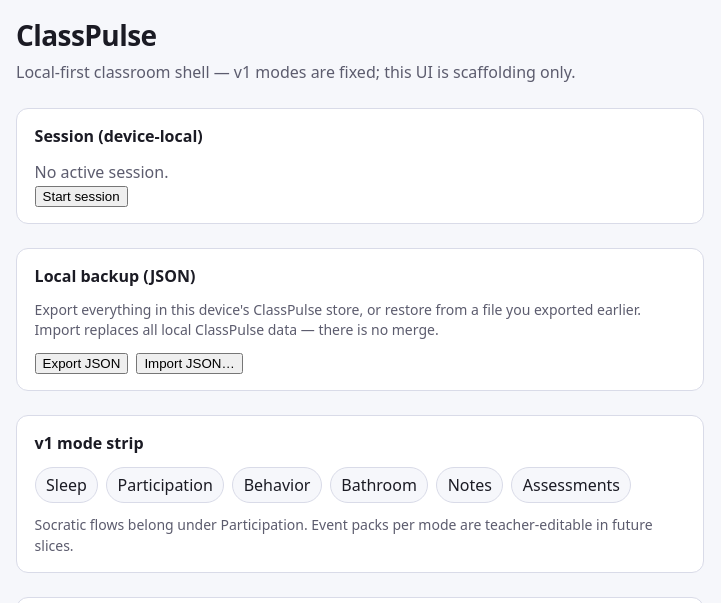
BehaviorPanel › adds a positive event and shows it in the list
Click the button "Start session".
click(81, 196)  # box left=35, top=186, right=128, bottom=207
(page scrolled)
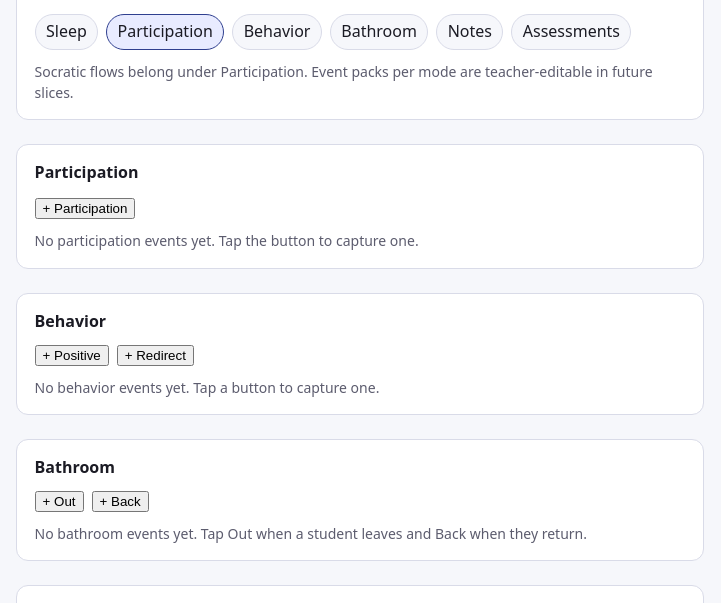
Click the button "+ Positive".
click(72, 355)  # box left=35, top=345, right=109, bottom=366
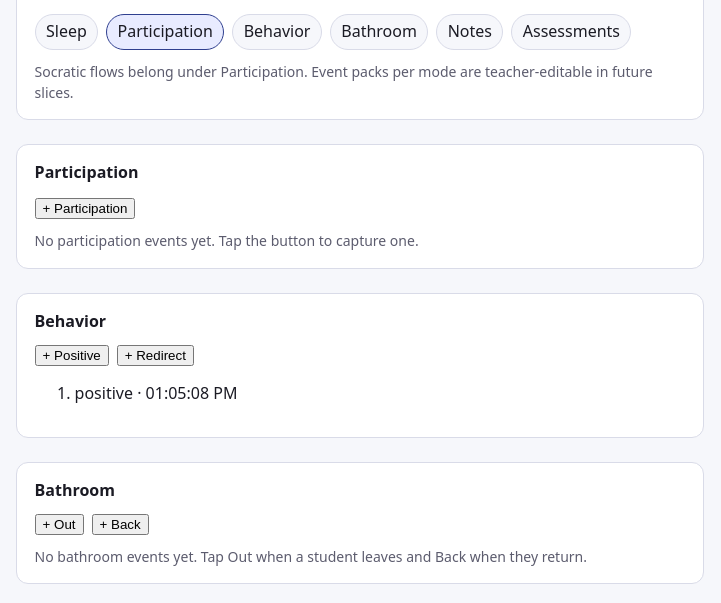
Expected: the list item "positive · 01:05:08 PM" is shown, left=75, top=382, right=237, bottom=404
